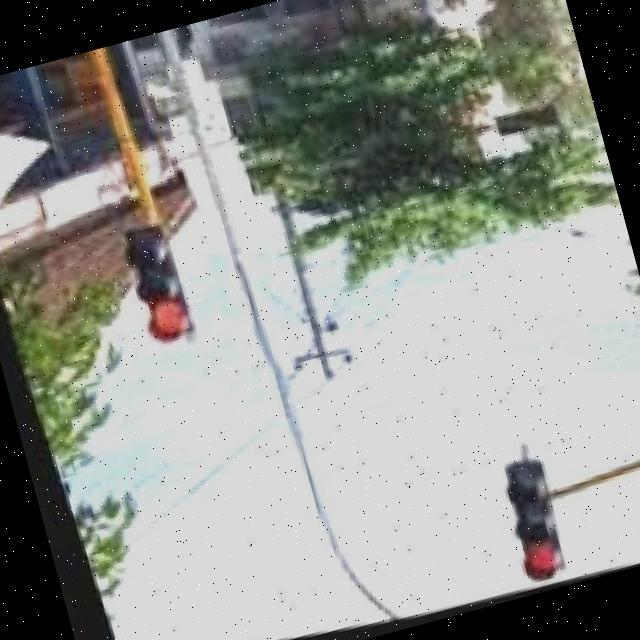red_light: (81, 200, 228, 375), (466, 412, 602, 600)
